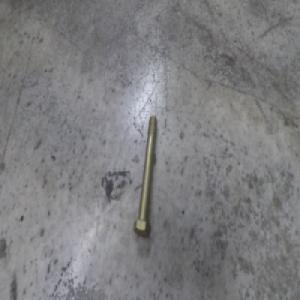Bolt: (133, 115, 156, 237)
